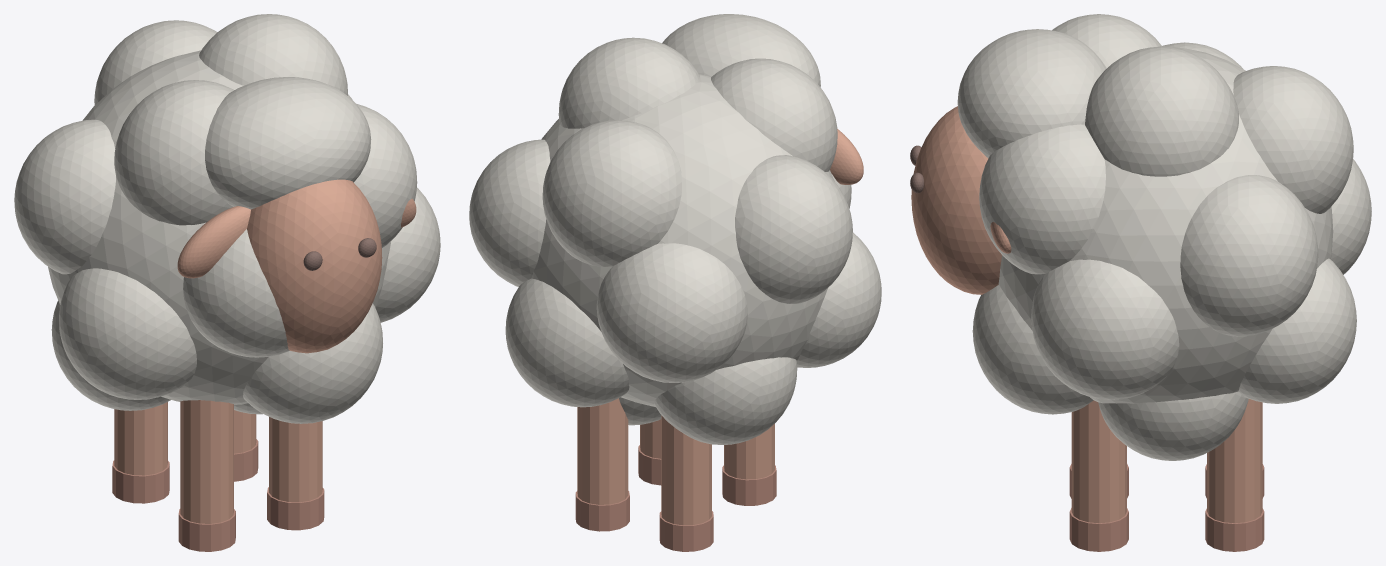
The model's file is lamb.glb.
3 views of the same model, side by side, from view 1: azimuth 30°, elevation 25°; view 2: azimuth 150°, elevation 25°; view 3: azimuth 270°, elevation 25° (orthographic). The views are drawn at different scales.
Visible parts, largest first — view 1: Wool_Cap, Face, Body, Wool_9, Wool_1, Wool_4, Wool_11, Wool_6, Wool_0, Leg_FR, Wool_3, Wool_8 (+10 smaller); view 2: Body, Wool_7, Wool_2, Wool_4, Wool_10, Wool_0, Wool_5, Wool_12, Wool_1, Wool_Cap, Wool_9, Leg_BL (+9 smaller); view 3: Body, Wool_5, Wool_8, Wool_0, Wool_3, Wool_Cap, Wool_2, Face, Wool_10, Wool_11, Wool_13, Leg_FL (+5 smaller).
Boxes of the visible parts, box(x1,y1,x2,y2) form: Wool_Cap: box(205, 77, 371, 209); Face: box(247, 179, 382, 353); Body: box(48, 50, 390, 404); Wool_9: box(59, 268, 196, 399); Wool_1: box(114, 80, 234, 225); Wool_4: box(14, 119, 115, 274); Wool_11: box(243, 303, 382, 423); Wool_6: box(183, 229, 289, 357); Wool_0: box(199, 14, 347, 95); Leg_FR: box(180, 400, 233, 523); Wool_3: box(354, 104, 417, 247); Wool_8: box(375, 187, 440, 322); Body: box(531, 74, 834, 406); Wool_7: box(596, 243, 747, 382); Wool_2: box(542, 120, 681, 266); Wool_4: box(735, 155, 852, 303); Wool_10: box(505, 278, 629, 407); Wool_0: box(558, 37, 699, 128); Wool_5: box(469, 139, 550, 286); Wool_12: box(654, 357, 797, 444); Wool_1: box(711, 58, 837, 171); Wool_Cap: box(662, 14, 820, 87); Wool_9: box(797, 232, 881, 367); Leg_BL: box(577, 398, 628, 504); Body: box(998, 46, 1333, 403); Wool_5: box(1180, 175, 1318, 336); Wool_8: box(1031, 259, 1179, 399); Wool_0: box(1085, 46, 1238, 176); Wool_3: box(979, 124, 1105, 274); Wool_Cap: box(957, 29, 1106, 158); Wool_2: box(1233, 66, 1353, 213); Face: box(911, 106, 1001, 294); Wool_10: box(1238, 258, 1356, 403); Wool_11: box(972, 285, 1093, 414); Wool_13: box(1098, 391, 1248, 460); Leg_FL: box(1071, 400, 1126, 523).
Bounding box in the file's own units: 0.7109 × 0.8709 × 0.7494.
